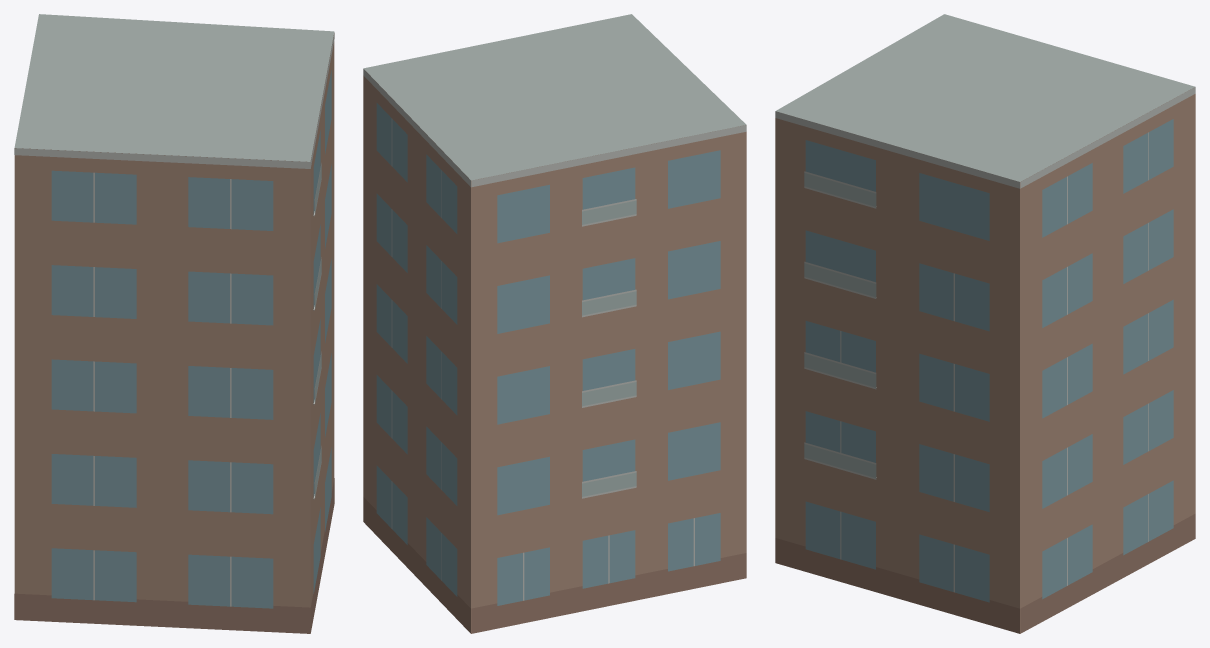
The model's file is survey-upis-32868588.glb.
3 views of the same model, side by side, from view 1: azimuth 30°, elevation 25°; view 2: azimuth 150°, elevation 25°; view 3: azimuth 270°, elevation 25° (orthographic). The views are drawn at different scales.
Parts seen in each view (by area): view 1: survey-upis-32868588.tmp; view 2: survey-upis-32868588.tmp; view 3: survey-upis-32868588.tmp.
Boxes of the visible parts, bbox=[...] form: survey-upis-32868588.tmp: bbox=[14, 14, 334, 633]; survey-upis-32868588.tmp: bbox=[363, 14, 746, 633]; survey-upis-32868588.tmp: bbox=[775, 14, 1195, 633].
Bounding box in the file's own units: 12.89 × 16.15 × 13.62.
